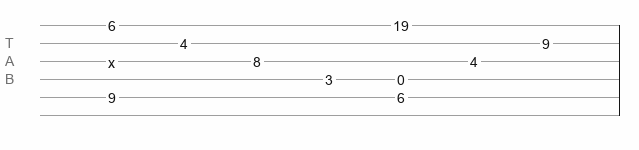0: (397, 72, 405, 82)
19: (393, 18, 409, 28)
3: (325, 72, 333, 82)
4: (180, 36, 188, 46), (470, 54, 478, 64)
6: (108, 18, 116, 28), (397, 90, 405, 100)
8: (253, 54, 261, 64)
9: (108, 90, 116, 100), (542, 36, 550, 46)
x: (108, 55, 115, 63)
